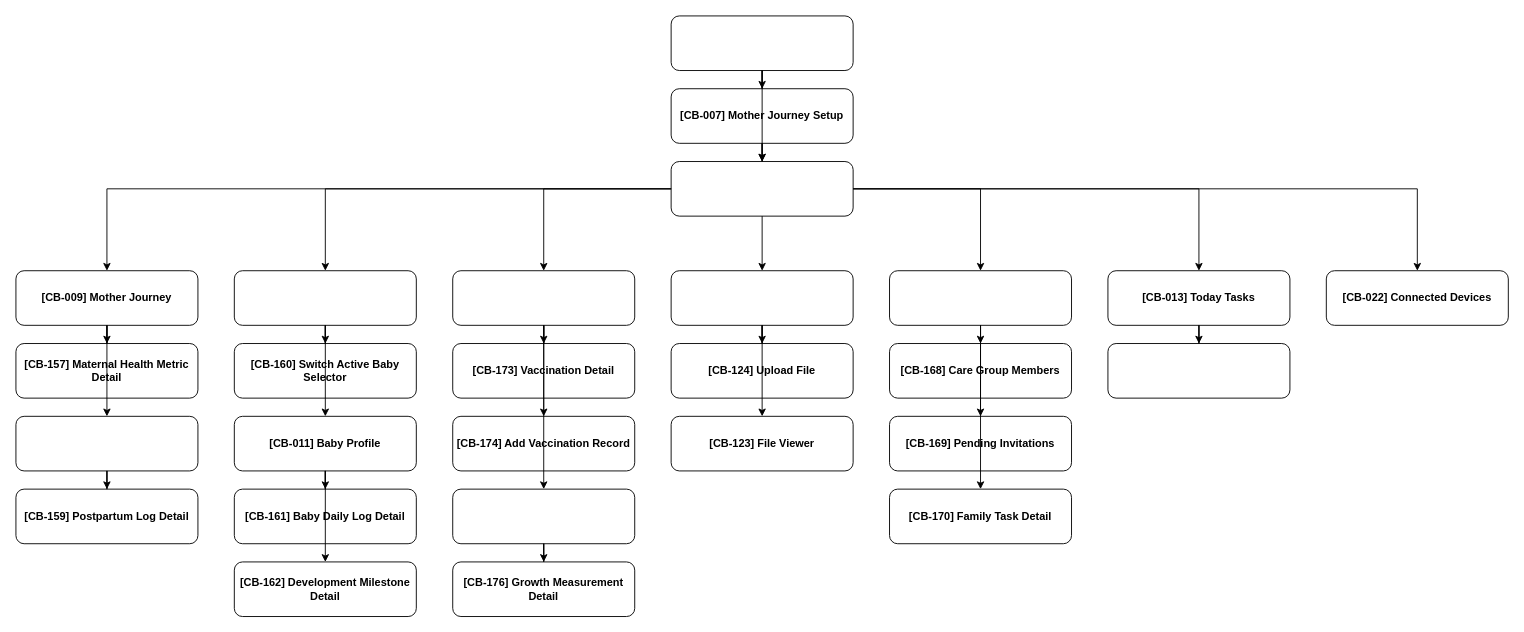
This 1524x632 diagram has some shape labels left out. The shapes that lost their labels are listed below. From the top down, each one's centre as x and y in pixels, then its label:
At point 761,43: "[CB-004] Login / Authentication".
At point 761,188: "[CB-008] Mother Home (Dashboard chính)".
At point 324,297: "[CB-010] Baby Profiles".
At point 543,297: "[CB-012] Health Record Timeline".
At point 761,297: "[CB-122] File Manager".
At point 980,297: "[CB-021] Care Groups".
At point 1198,370: "[CB-167] Reminder Detail".
At point 106,443: "[CB-158] Postpartum Log List".
At point 543,516: "[CB-175] Growth Measurement History".
